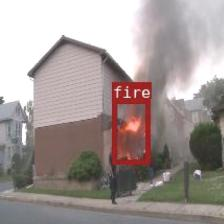fire: (111, 98, 150, 164)
